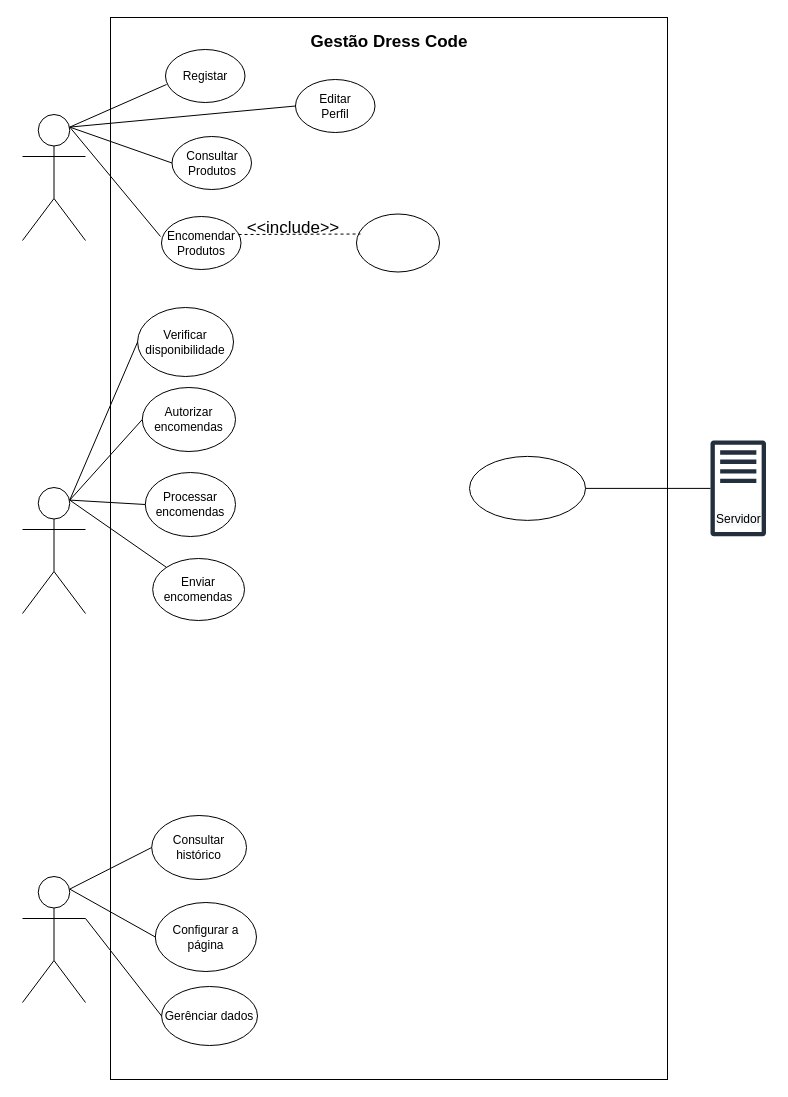
Some shapes in this 788 by 1097 pixel diagram are drawn without their labels. The box of each missing label's shape, as (x1, y1, x2, y2) in pixels:
Administrador: (22, 876, 86, 1002)
Cliente: (22, 114, 86, 240)
Consultar detalhes da encomenda: (356, 213, 440, 272)
Funcionário: (22, 486, 86, 614)
Validar e registar acesso: (468, 455, 586, 520)
